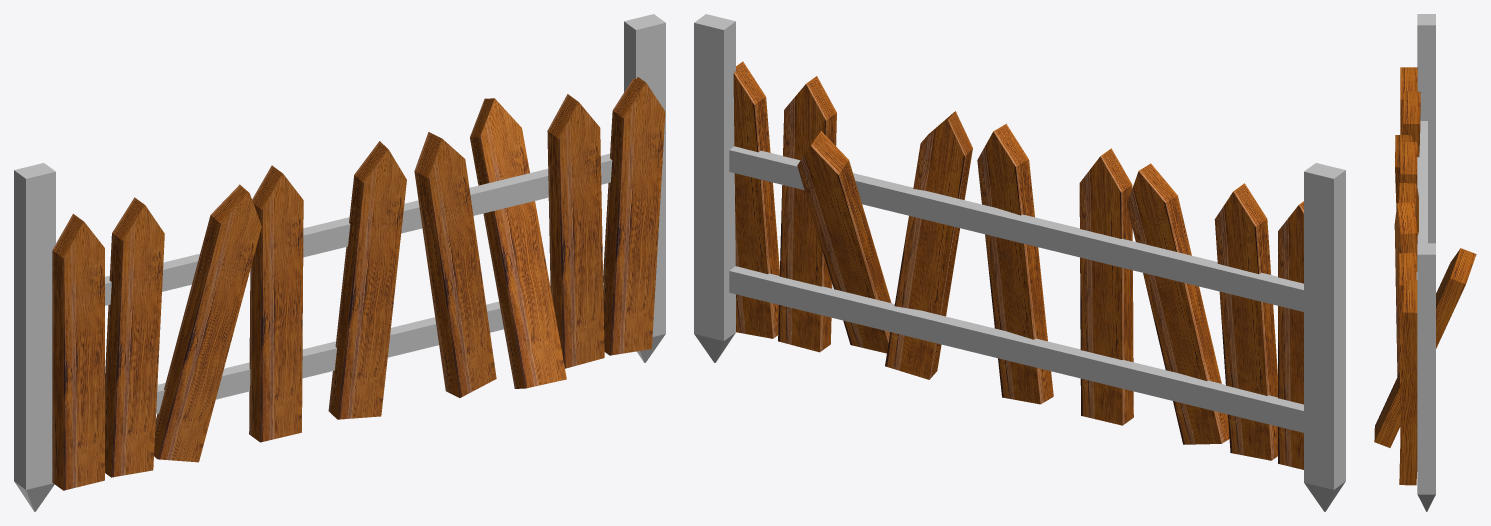
The model's file is fence2.fbx.
3 views of the same model, side by side, from view 1: azimuth 30°, elevation 25°; view 2: azimuth 150°, elevation 25°; view 3: azimuth 270°, elevation 25° (orthographic). The views are drawn at different scales.
Visible parts, largest first — view 1: main.001, plank.001, plank; view 2: main.001, plank.001, plank; view 3: main.001, plank, plank.001.
Part boxes in pixels (left/top/right/bottom): main.001: left=52, top=77, right=665, bottom=490; plank.001: left=14, top=163, right=55, bottom=511; plank: left=624, top=14, right=665, bottom=362; main.001: left=729, top=61, right=1303, bottom=469; plank.001: left=1304, top=163, right=1345, bottom=511; plank: left=694, top=14, right=735, bottom=362; main.001: left=1374, top=67, right=1476, bottom=485; plank: left=1417, top=243, right=1435, bottom=511; plank.001: left=1417, top=14, right=1435, bottom=243.
Size of the model in its own units: 254 by 129 by 45.5.
